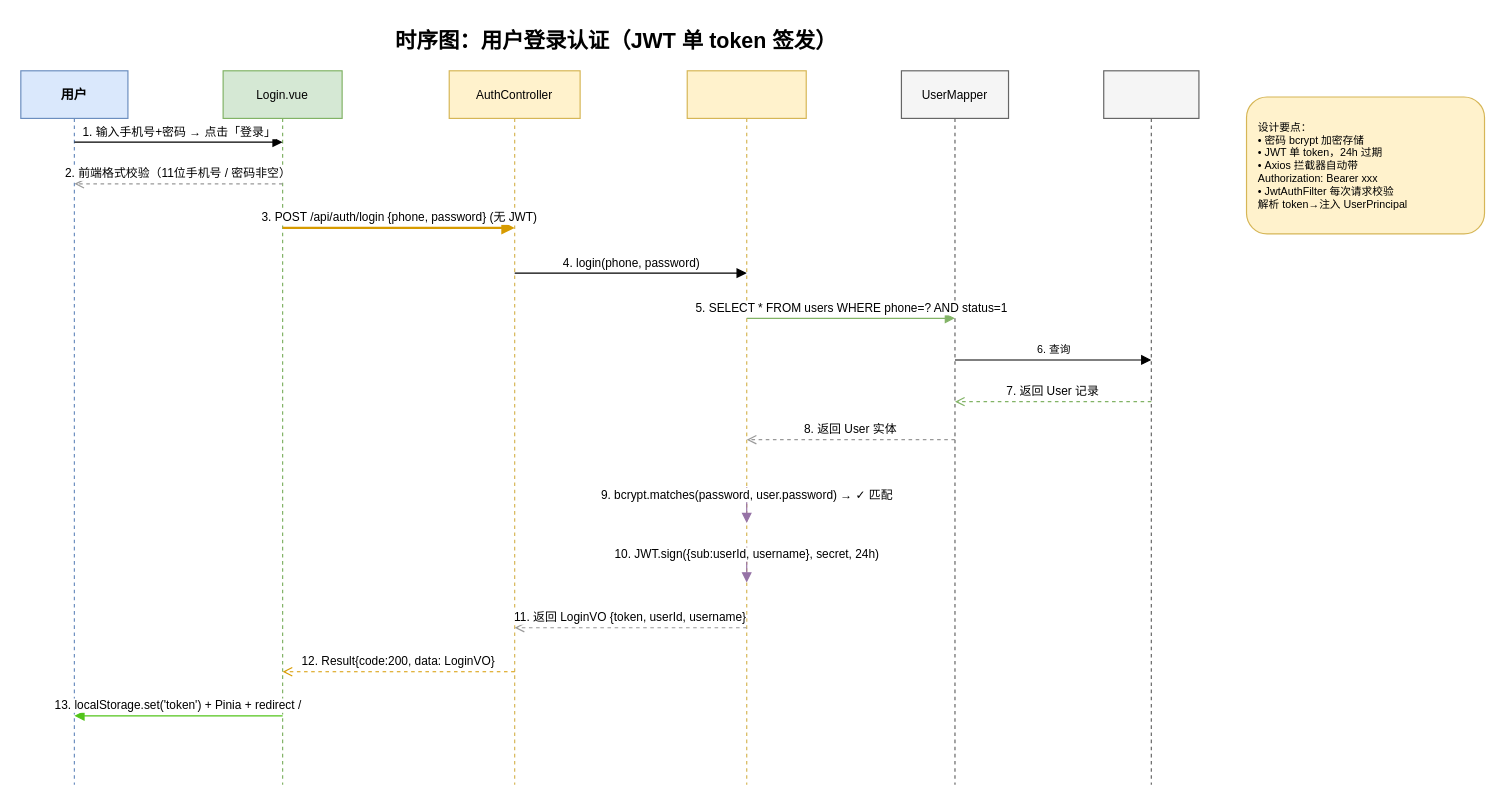
This 1505x806 diagram has some shape labels left out. The box of each missing label's shape, as (x1, y1, x2, y2) in pixels:
MySQL: (1103, 70, 1199, 785)
UserService: (686, 70, 806, 785)
